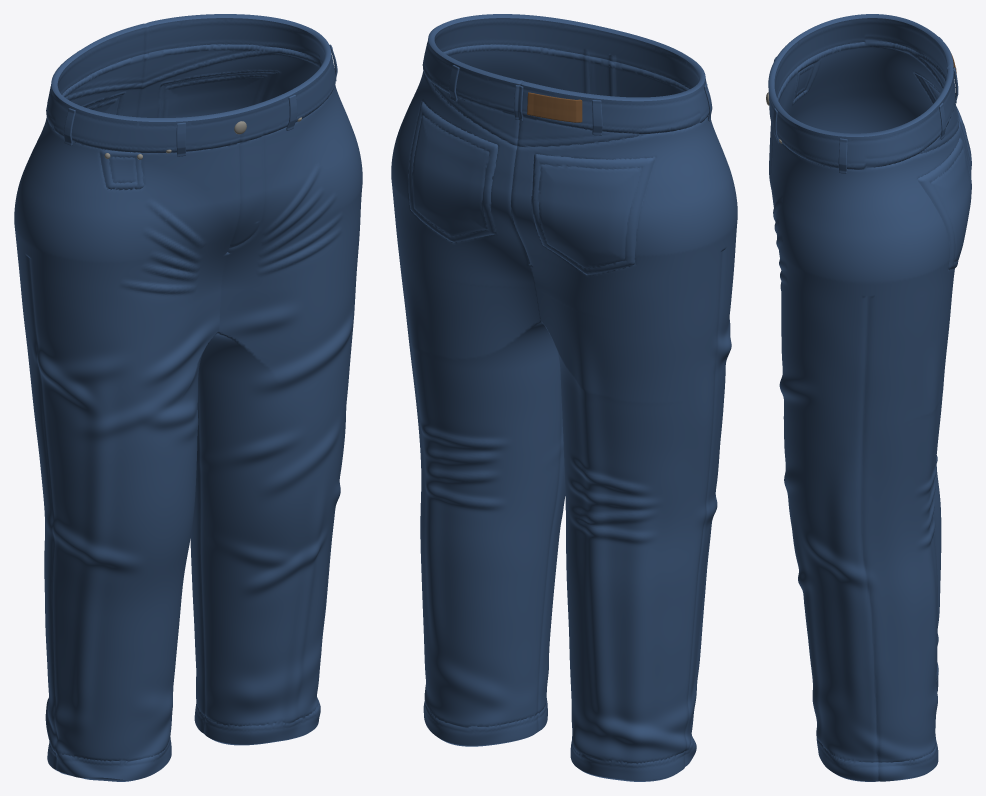
Rendered from 27_vaquero_mom.glb.
3 views of the same model, side by side, from view 1: azimuth 30°, elevation 25°; view 2: azimuth 150°, elevation 25°; view 3: azimuth 270°, elevation 25° (orthographic). The views are drawn at different scales.
Visible parts, largest first — view 1: body; view 2: body, trim; view 3: body.
Part boxes in pixels (<box>): body: <box>14,14,362,781</box>; body: <box>391,14,737,781</box>; trim: <box>527,92,582,122</box>; body: <box>768,14,971,781</box>.
Bounding box in the file's own units: 0.4698 × 0.9619 × 0.2706.
